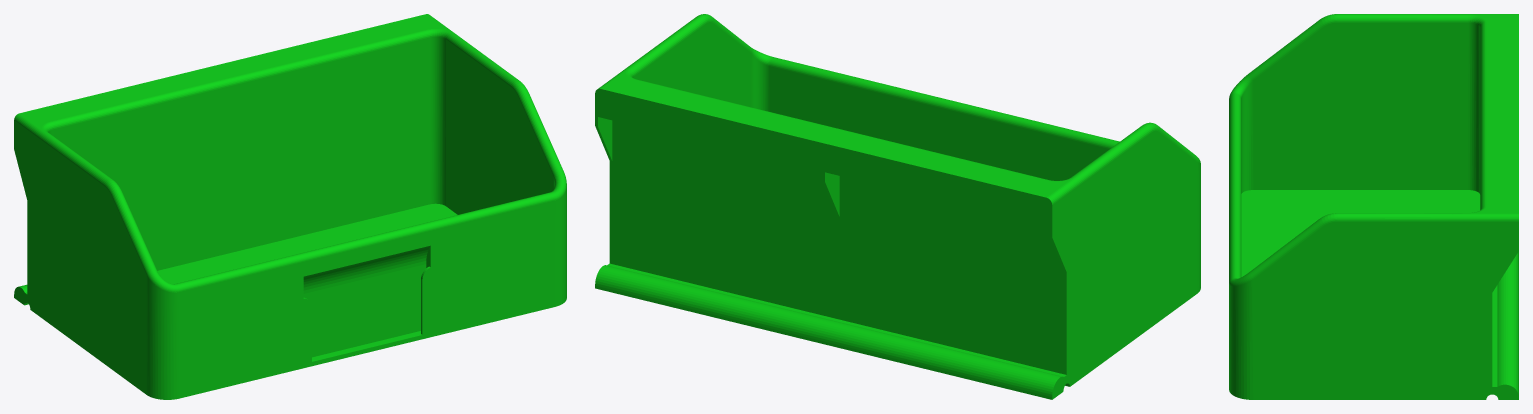
The picture shows the model from 3 angles, left to right: view 1: azimuth 30°, elevation 25°; view 2: azimuth 150°, elevation 25°; view 3: azimuth 270°, elevation 25°; orthographic projection. The views are drawn at different scales.
Visible parts, largest first — view 1: _00Mm_Open_Bin; view 2: _00Mm_Open_Bin; view 3: _00Mm_Open_Bin.
Part boxes in pixels (x1,y1,x2,y2): _00Mm_Open_Bin: (14, 14, 566, 399); _00Mm_Open_Bin: (595, 14, 1200, 399); _00Mm_Open_Bin: (1229, 14, 1518, 399).
Bounding box in the file's own units: 0.4 × 0.24 × 0.168.
